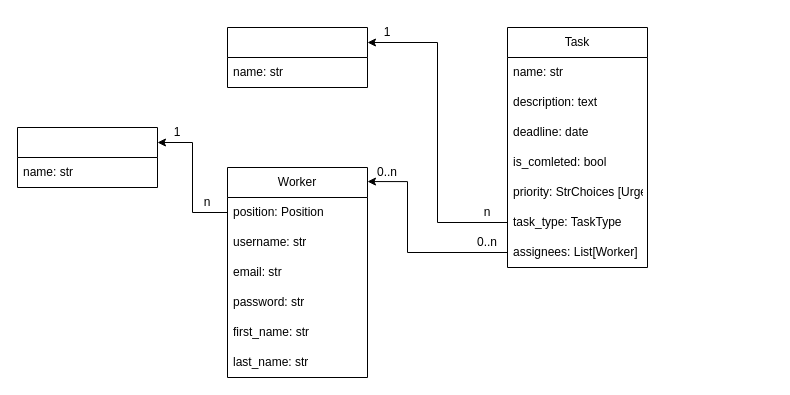
This 790x395 diagram has some shape labels left out. The box of each missing label's shape, as (x1, y1, x2, y2) in pixels:
Position: (16, 126, 158, 188)
TaskType: (226, 26, 368, 88)
